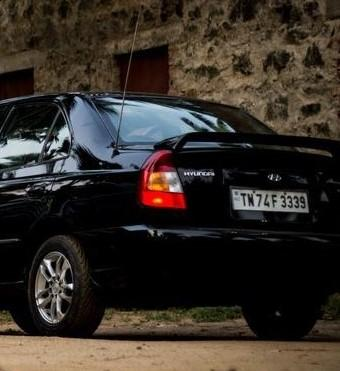License-Plate: (227, 180, 312, 216)
